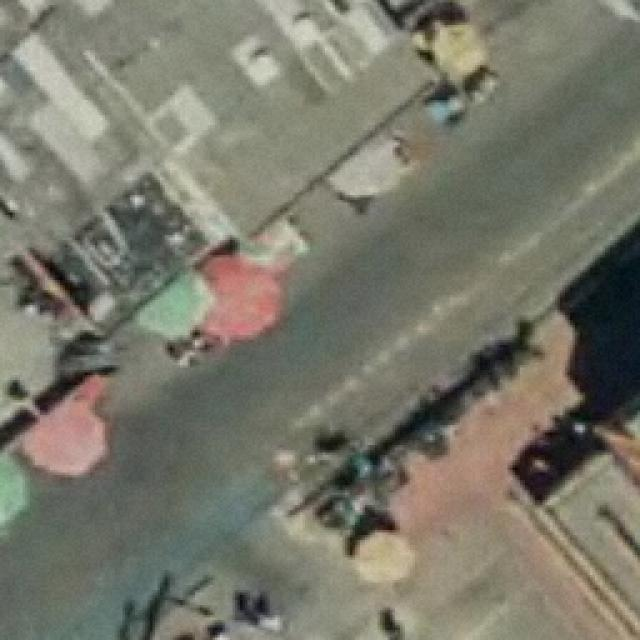vendedor_ambulante: (15, 390, 113, 482), (196, 249, 287, 344), (330, 127, 411, 203), (134, 265, 214, 335), (346, 523, 416, 587), (430, 20, 487, 84), (0, 444, 31, 533)
